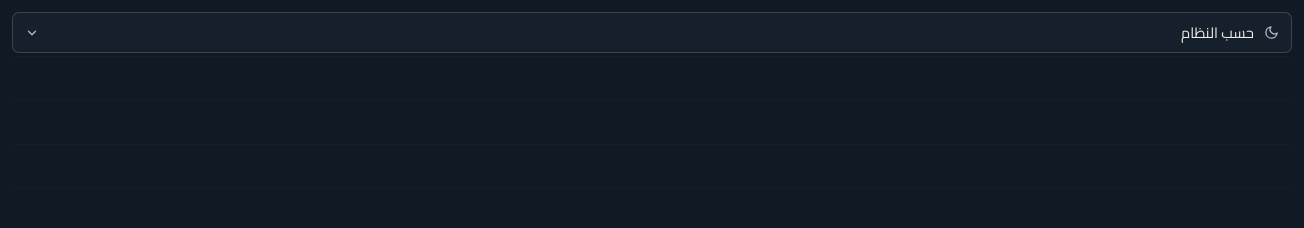
Test case: ThemeSwitch › shows an effective-appearance hint on the System option in both languages
The width and height of the screenshot is (1304, 228).
Click the dropdown named "المظهر": (1217, 32) 12,12 -> 1292,53
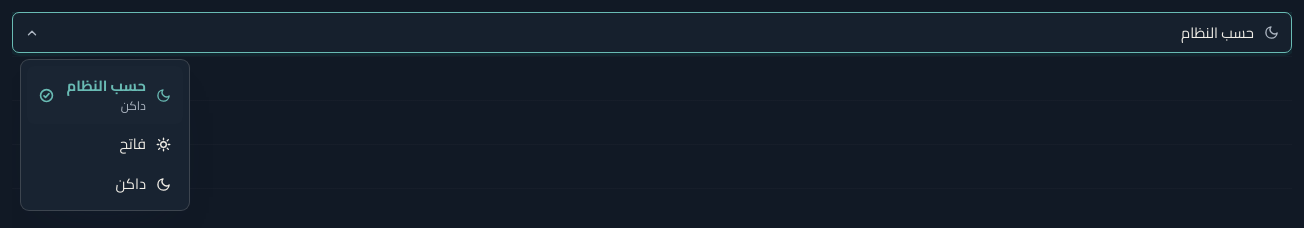
Result: the text with class "wj-select-option-hint" reads "داكن" at 121,94 -> 146,117
